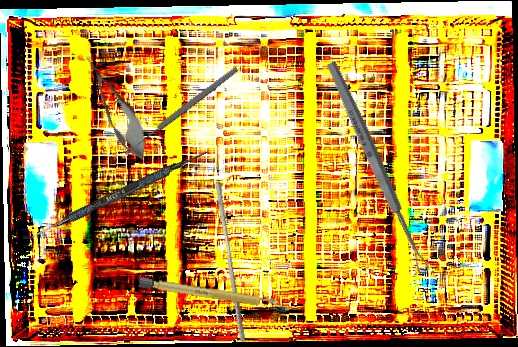Micro Scissor: (74, 49, 158, 166)
Pusher: (209, 180, 252, 344)
Scalpel Handle: (137, 276, 281, 311)
Spatula Surgical: (22, 144, 209, 248)
Surgical Spoon: (324, 59, 431, 276), (122, 65, 240, 157)
